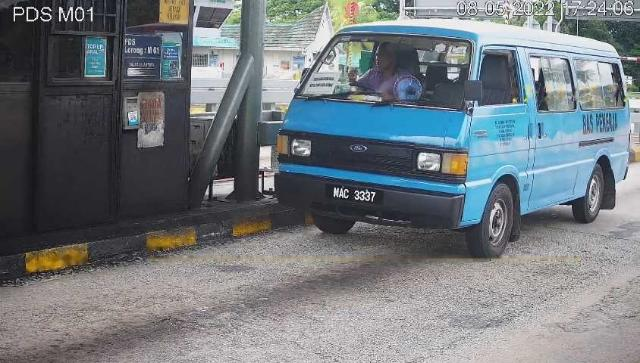License_Plate: (325, 185, 383, 208)
van: (277, 20, 632, 260)
